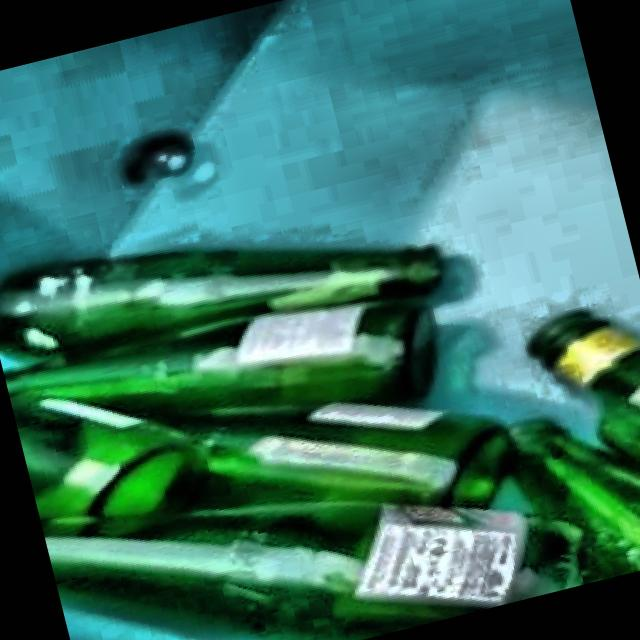glass: (0, 250, 640, 640)
